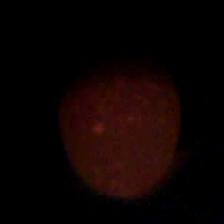fertile: (53, 37, 185, 201)
